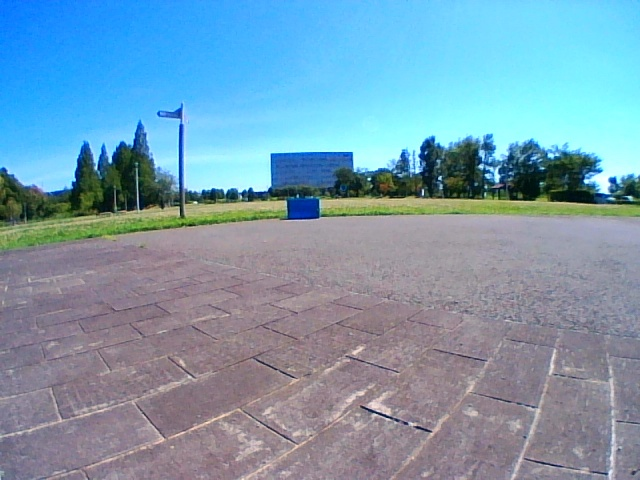blue_box: (287, 197, 319, 220)
